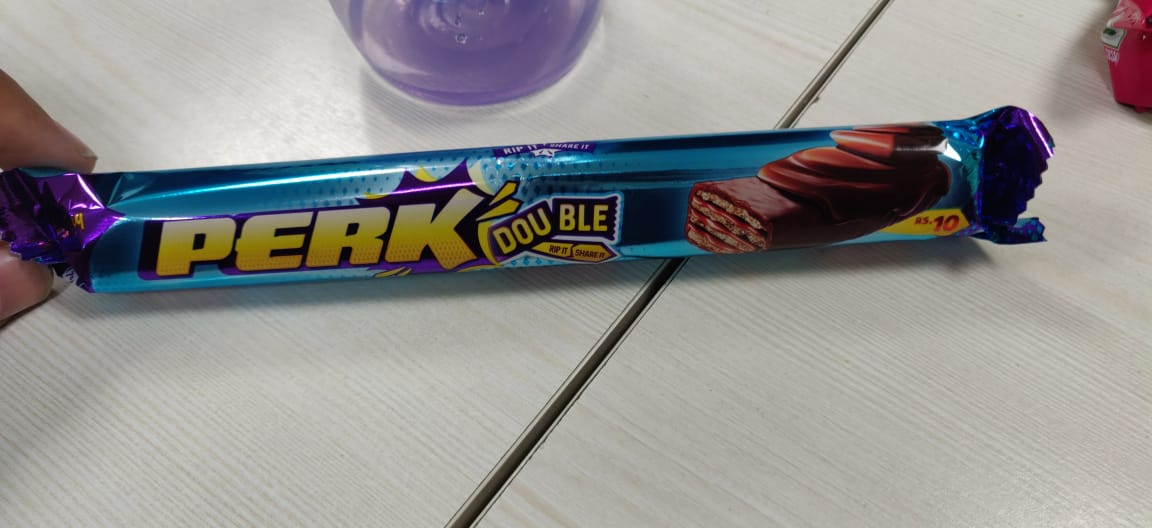perk: (4, 98, 1083, 321)
